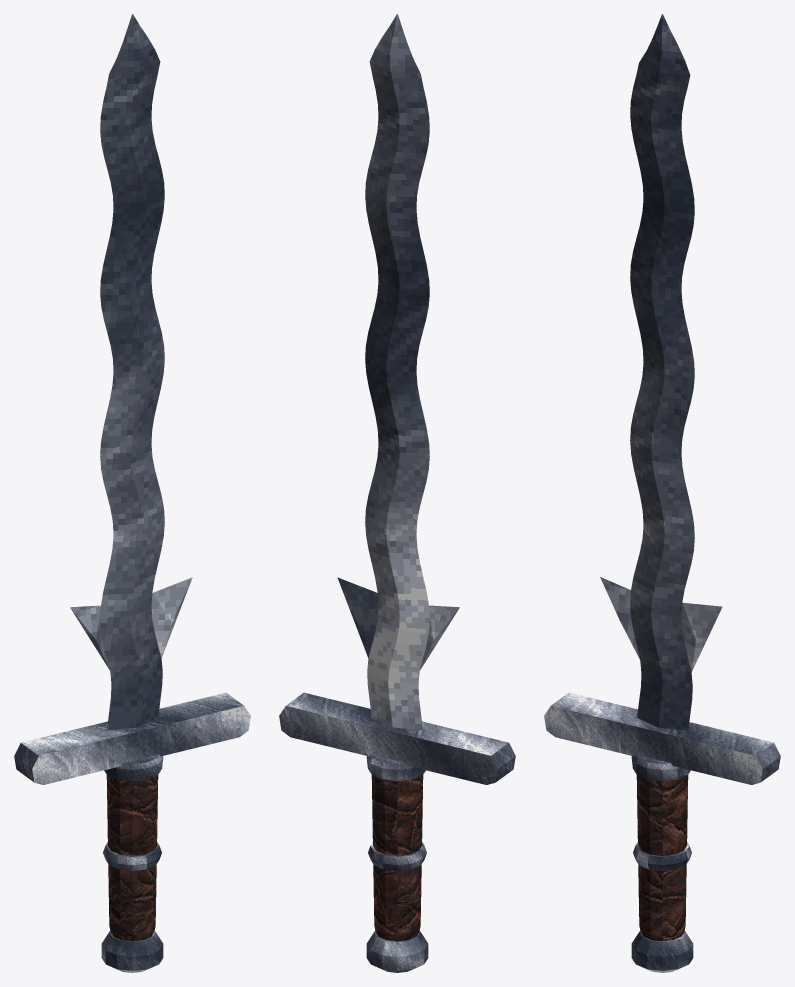
File: flamberge.glb
3 views of the same model, side by side, from view 1: azimuth 30°, elevation 25°; view 2: azimuth 150°, elevation 25°; view 3: azimuth 330°, elevation 25° (orthographic).
Visible parts, largest first — view 1: Lâmina ondulada com dentes, Guarda simples, Cabo de couro, Pomo, Colar da guarda, Anel do cabo; view 2: Lâmina ondulada com dentes, Guarda simples, Cabo de couro, Pomo, Colar da guarda, Anel do cabo; view 3: Lâmina ondulada com dentes, Guarda simples, Cabo de couro, Pomo, Colar da guarda, Anel do cabo.
Boxes of the visible parts, x1=… form: Lâmina ondulada com dentes: x1=70, y1=14, x2=192, y2=730; Guarda simples: x1=14, y1=692, x2=250, y2=784; Cabo de couro: x1=106, y1=775, x2=158, y2=941; Pomo: x1=101, y1=931, x2=163, y2=972; Colar da guarda: x1=104, y1=754, x2=163, y2=780; Anel do cabo: x1=103, y1=842, x2=161, y2=870; Lâmina ondulada com dentes: x1=337, y1=14, x2=459, y2=730; Guarda simples: x1=279, y1=692, x2=515, y2=784; Cabo de couro: x1=371, y1=775, x2=423, y2=941; Pomo: x1=366, y1=931, x2=428, y2=972; Colar da guarda: x1=366, y1=754, x2=425, y2=780; Anel do cabo: x1=368, y1=842, x2=426, y2=870; Lâmina ondulada com dentes: x1=600, y1=14, x2=722, y2=730; Guarda simples: x1=544, y1=692, x2=780, y2=784; Cabo de couro: x1=636, y1=775, x2=688, y2=941; Pomo: x1=631, y1=931, x2=693, y2=972; Colar da guarda: x1=631, y1=754, x2=690, y2=780; Anel do cabo: x1=633, y1=842, x2=691, y2=870.
Size of the model in its own units: 0.98 by 4.07 by 0.24.
2 materials, 2 textured.
